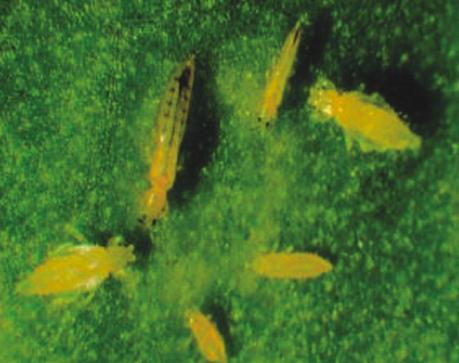thrips: (135, 53, 198, 231), (9, 231, 134, 307), (307, 80, 422, 153), (253, 12, 304, 129), (249, 250, 336, 282), (182, 306, 229, 363)
